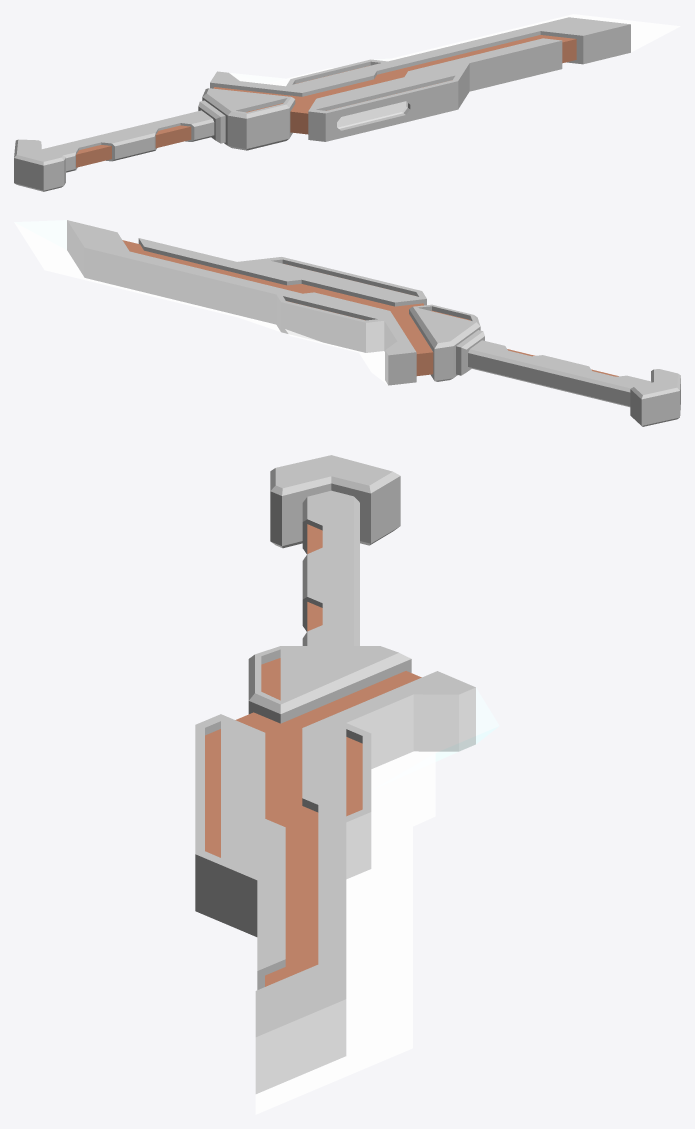
The model's file is weap3_dagger.fbx.
3 renders of one model, top to bottom at view 1: azimuth 30°, elevation 25°; view 2: azimuth 150°, elevation 25°; view 3: azimuth 270°, elevation 25°, orthographic. The views are drawn at different scales.
Parts seen in each view (by area): view 1: weap3_dagger; view 2: weap3_dagger; view 3: weap3_dagger.
Boxes of the visible parts, x1,y1,x2,y2 form: weap3_dagger: (14, 14, 680, 191); weap3_dagger: (14, 220, 680, 426); weap3_dagger: (195, 455, 499, 1114).
Bounding box in the file's own units: 81.03 × 4.36 × 16.48.
